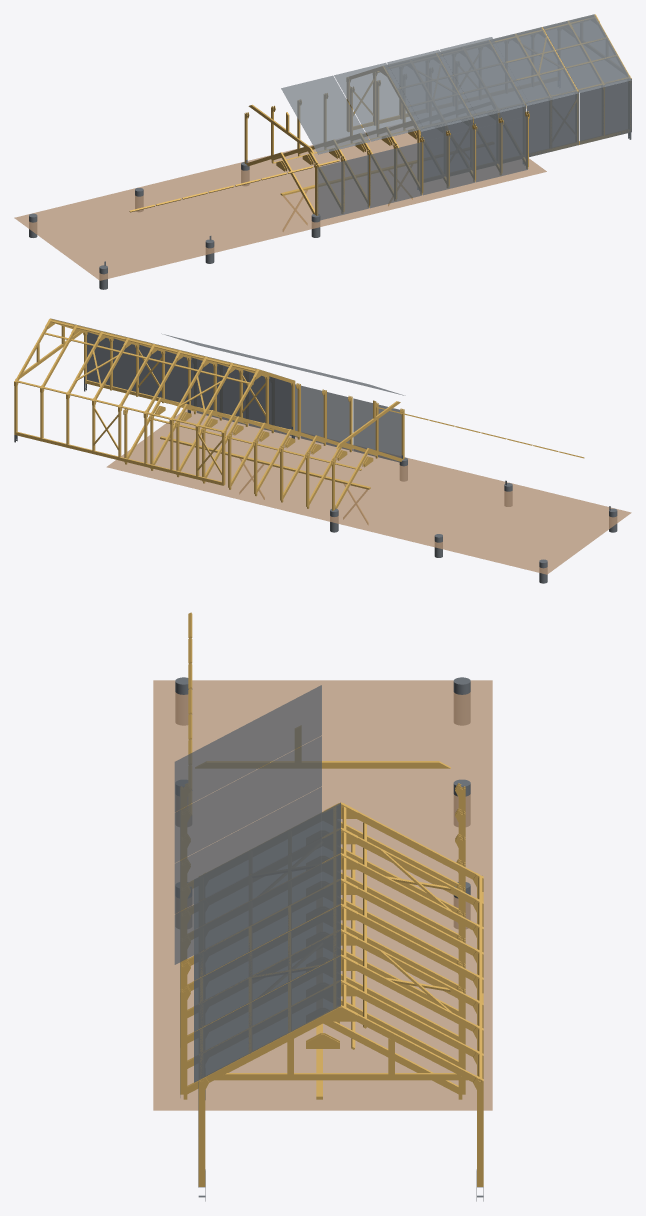
The model's file is Gewaechshaus_V5_2 (1).gltf.
3 views of the same model, one above another, from view 1: azimuth 30°, elevation 25°; view 2: azimuth 150°, elevation 25°; view 3: azimuth 270°, elevation 25° (orthographic). The views are drawn at different scales.
Parts seen in each view (by area): view 1: Boden002, Pad005, Dachplatte_lang001 (×2), LinearPattern004, Wandplatte001 (×2), LinearPattern005, LinearPattern, LinearPattern003, LinearPattern008, Dachsparre001, Wandpfosten001, LinearPattern012 (+2 smaller); view 2: Boden002, Pad005, Wandplatte001 (×2), LinearPattern005, LinearPattern003, Wandpfosten001, Dachsparre001, LinearPattern, LinearPattern008, Fundamentbalken002, LinearPattern004, LinearPattern007 (+10 smaller); view 3: Boden002, Pad005, Dachplatte_lang001 (×2), LinearPattern004, Dachsparre001, LinearPattern003, LinearPattern, LinearPattern008, Pad006, Torbalken001, Firstbretter001, Wandpfosten001 (+6 smaller).
Boxes of the visible parts, bbox=[...] form: Boden002: bbox=[15, 132, 546, 280]; Pad005: bbox=[15, 132, 546, 280]; Dachplatte_lang001 (×2): bbox=[387, 14, 631, 131]; LinearPattern004: bbox=[281, 37, 528, 154]; Wandplatte001 (×2): bbox=[421, 78, 631, 156]; LinearPattern005: bbox=[317, 116, 527, 220]; LinearPattern: bbox=[244, 85, 528, 215]; LinearPattern003: bbox=[246, 121, 528, 214]; LinearPattern008: bbox=[29, 162, 320, 289]; Dachsparre001: bbox=[349, 14, 631, 131]; Wandpfosten001: bbox=[346, 75, 630, 180]; LinearPattern012: bbox=[129, 159, 339, 212]; Boden002: bbox=[107, 409, 630, 574]; Pad005: bbox=[107, 409, 630, 574]; Wandplatte001 (×2): bbox=[87, 332, 291, 428]; LinearPattern005: bbox=[196, 384, 401, 462]; LinearPattern003: bbox=[124, 397, 402, 508]; Wandpfosten001: bbox=[14, 332, 294, 484]; Dachsparre001: bbox=[14, 318, 294, 434]; LinearPattern: bbox=[124, 387, 404, 510]; LinearPattern008: bbox=[330, 457, 617, 583]; Fundamentbalken002: bbox=[14, 431, 224, 485]; LinearPattern004: bbox=[161, 333, 405, 395]; LinearPattern007: bbox=[155, 405, 373, 467]; Boden002: bbox=[153, 680, 492, 1110]; Pad005: bbox=[153, 680, 492, 1110]; Dachplatte_lang001 (×2): bbox=[194, 803, 340, 1082]; LinearPattern004: bbox=[174, 685, 321, 964]; Dachsparre001: bbox=[198, 802, 483, 1082]; LinearPattern003: bbox=[180, 822, 465, 1094]; LinearPattern: bbox=[180, 797, 465, 1099]; LinearPattern008: bbox=[175, 677, 470, 928]; Pad006: bbox=[195, 761, 450, 768]; Torbalken001: bbox=[214, 1073, 468, 1080]; Firstbretter001: bbox=[324, 803, 357, 1021]; Wandpfosten001: bbox=[198, 887, 483, 1186].
Bounding box in the file's own units: 21.86 × 5.53 × 6.
